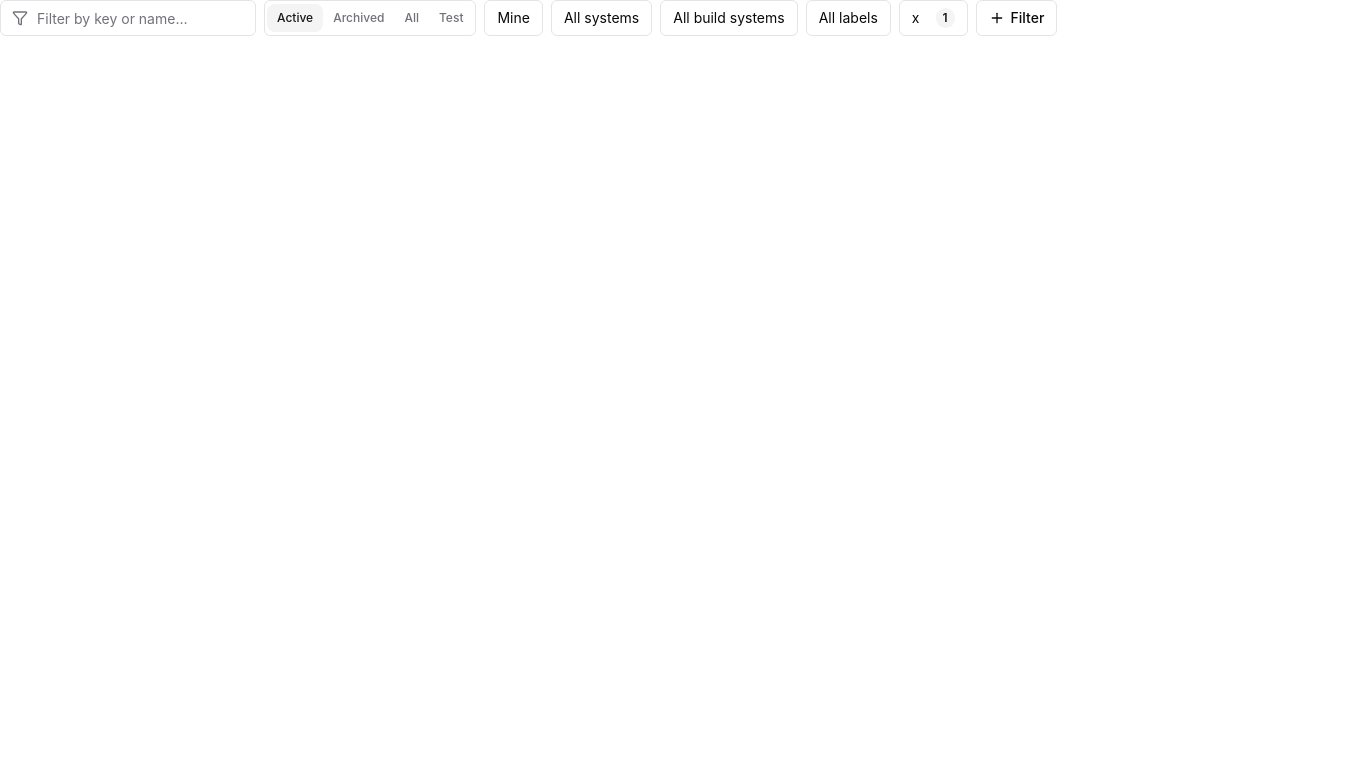
Test case: ComponentFilters "+ Filter" panel (extended dimensions) › a text edit pending when the panel editor closes (Escape) still commits, once
Click the button with aria-label "Add filter". click: (1016, 18)
box: top-left (976, 0), bottom-right (1057, 36)
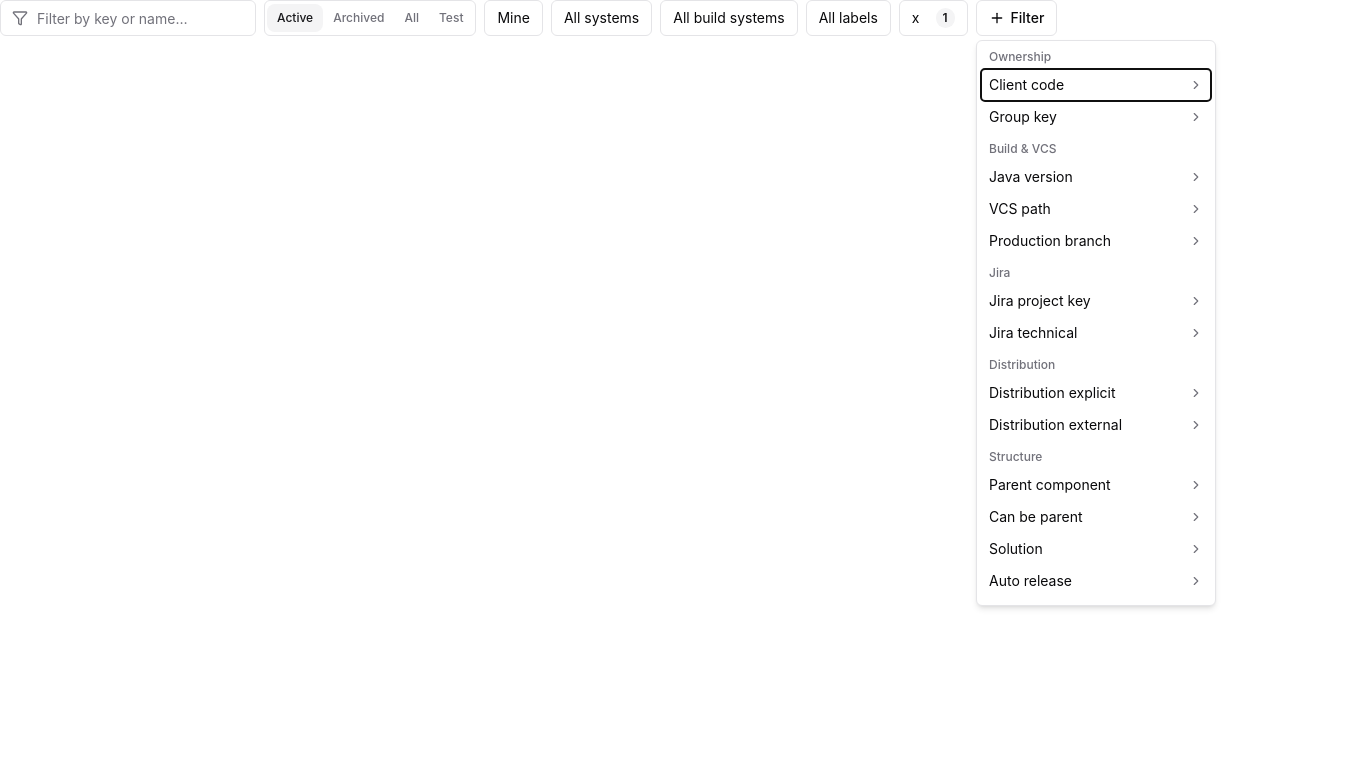
Click the button "VCS path". click: (1096, 209)
box: top-left (981, 193), bottom-right (1211, 225)
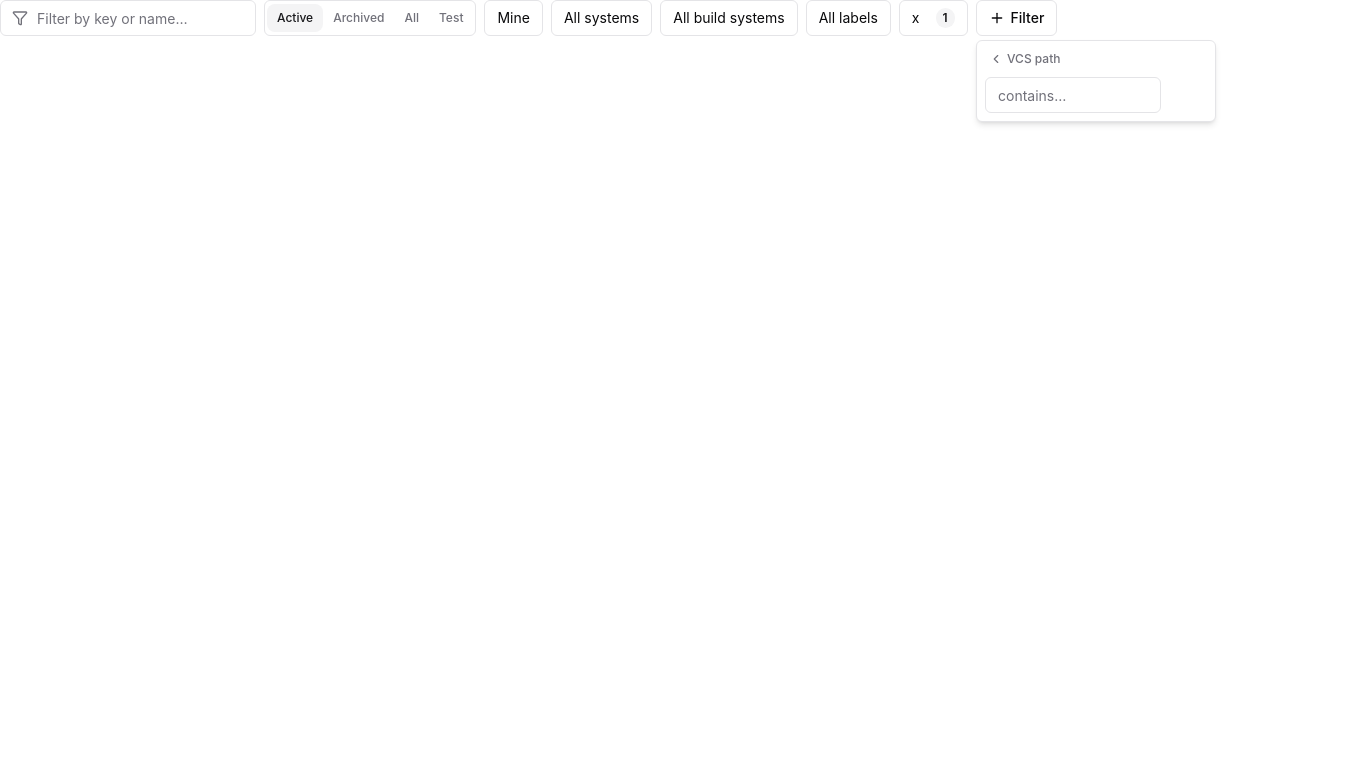
Type "github.com/example" into the field named "VCS path". click: (1073, 95)
box: top-left (985, 77), bottom-right (1161, 113)
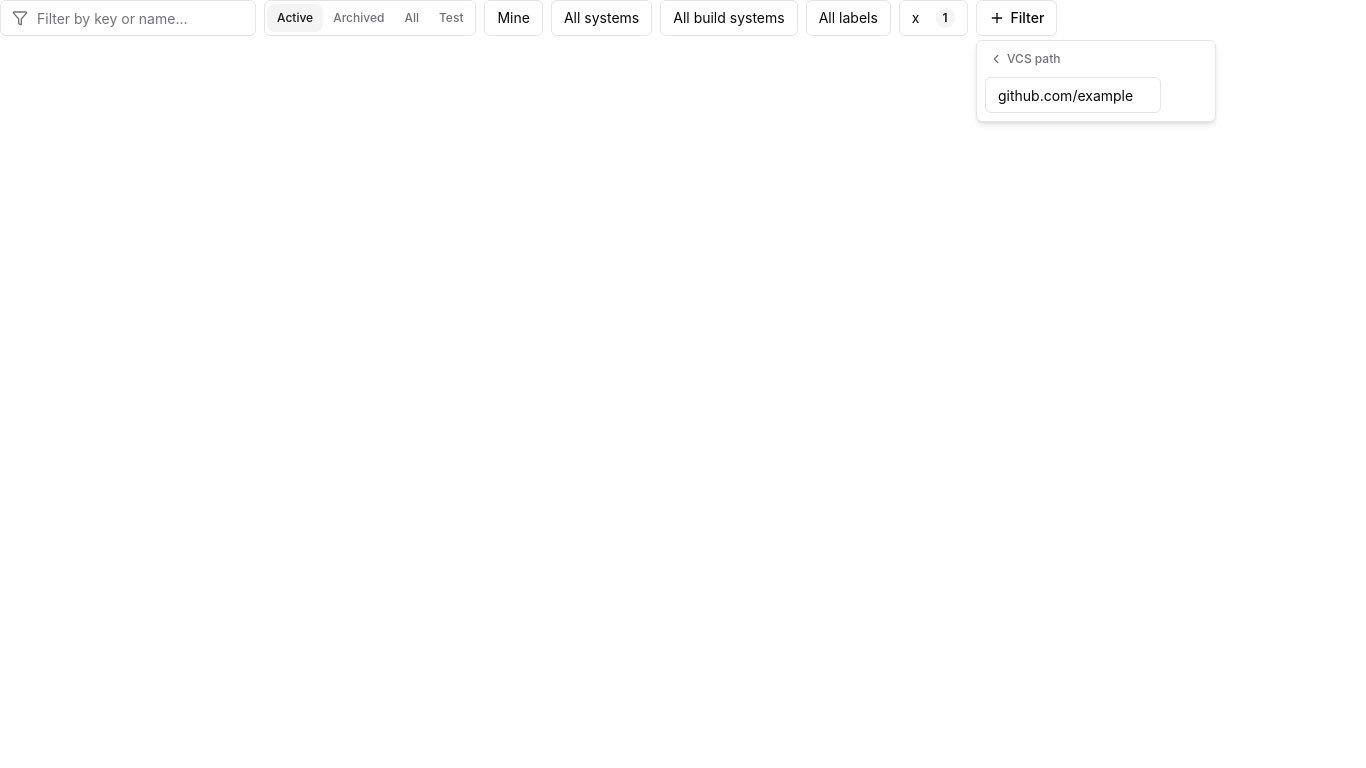
Press Escape
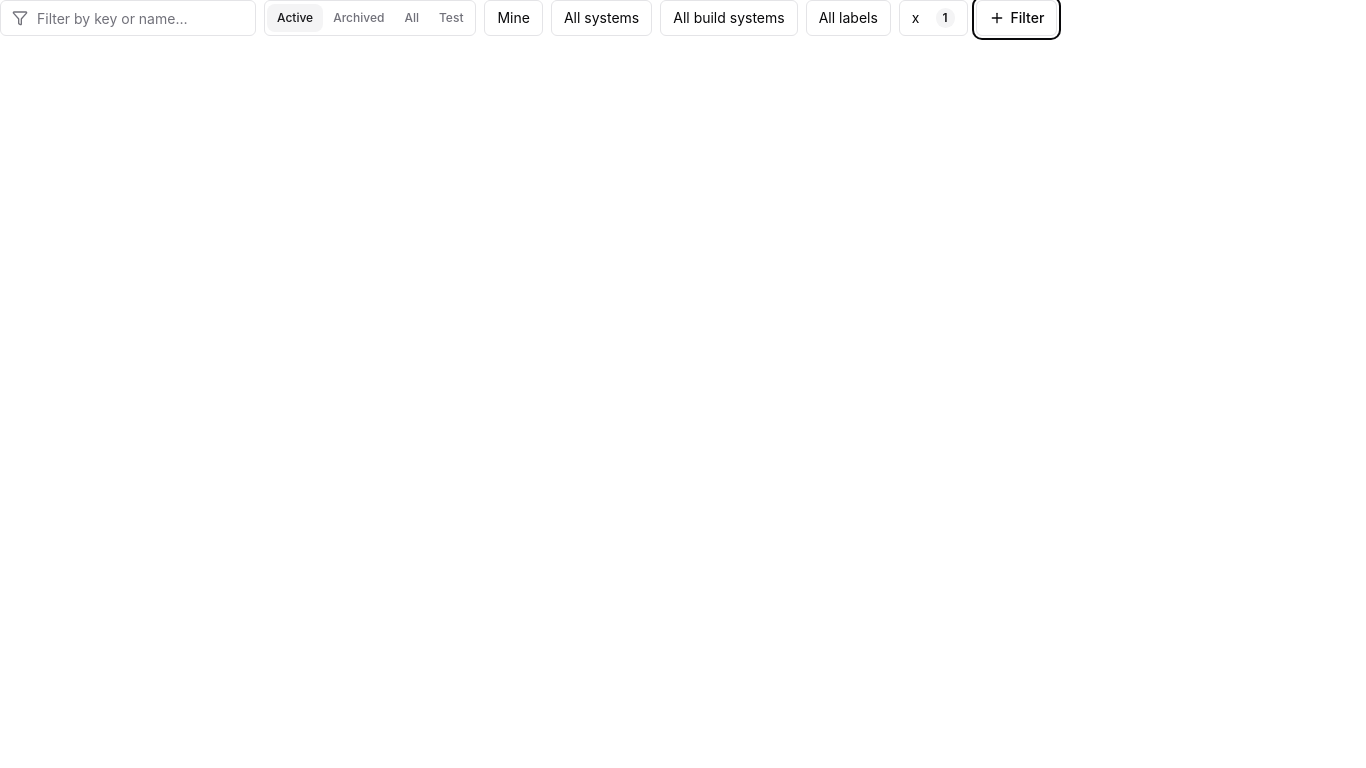
Check: the button "VCS path" is gone
